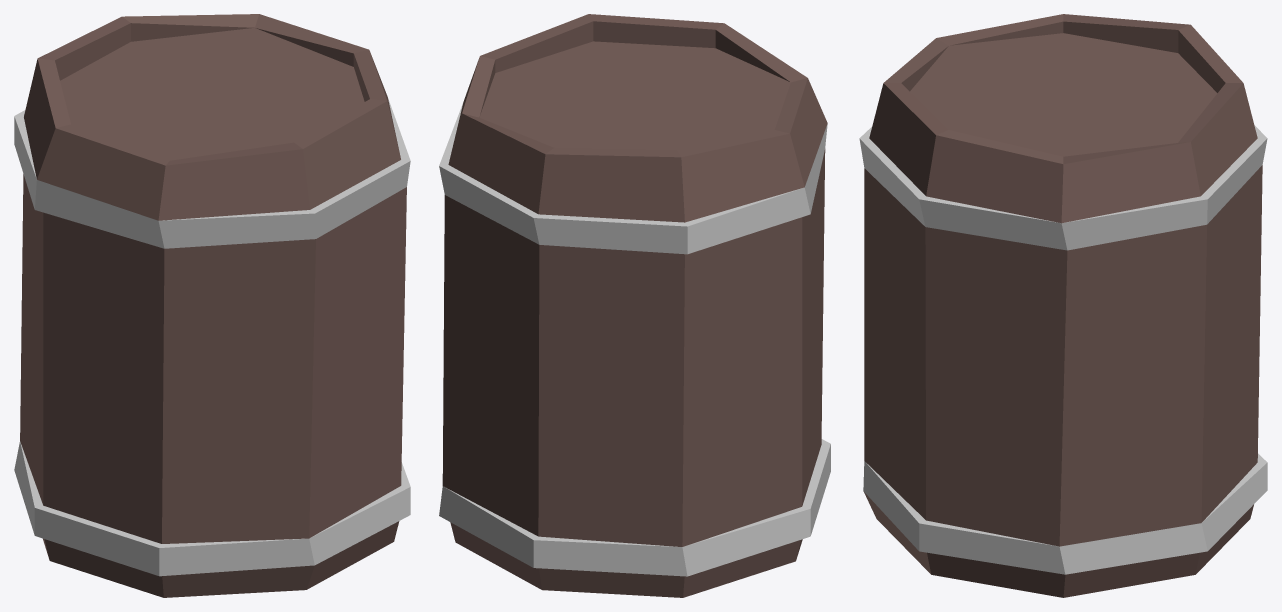
Rendered from barrel_mat.fbx.
3 views of the same model, side by side, from view 1: azimuth 30°, elevation 25°; view 2: azimuth 150°, elevation 25°; view 3: azimuth 270°, elevation 25° (orthographic).
Visible parts, largest first — view 1: barrel_mat; view 2: barrel_mat; view 3: barrel_mat.
Boxes of the visible parts, bbox=[...] form: barrel_mat: bbox=[14, 14, 410, 597]; barrel_mat: bbox=[439, 14, 830, 597]; barrel_mat: bbox=[859, 14, 1267, 597].
Bounding box in the file's own units: 180 × 216 × 181.
